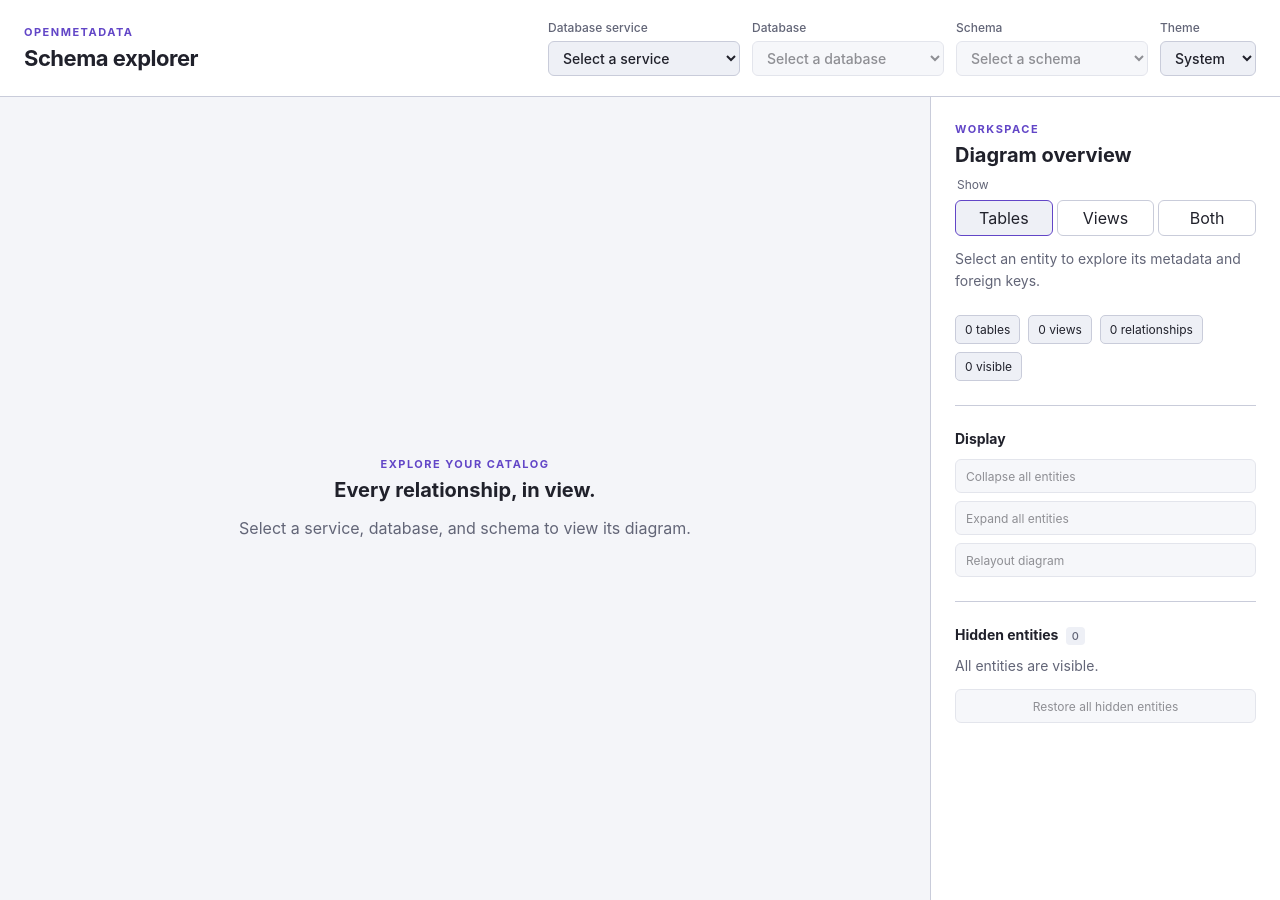
it: App graph loading › aborts a previous graph request and ignores its late response
Select "MSSQL Desktop" in the dropdown labelled "Database service" at (644, 58), box [548, 41, 740, 76]
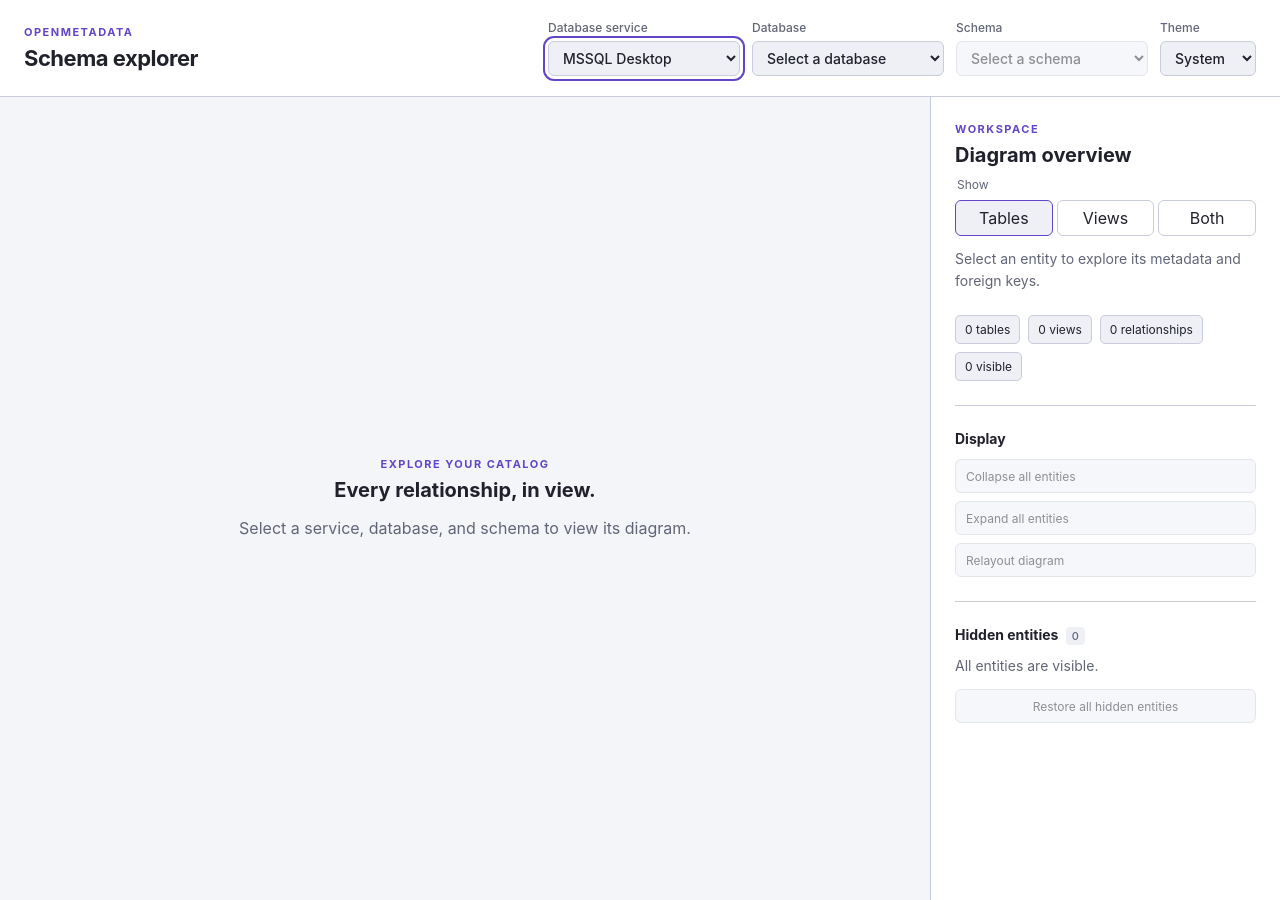
Expected: the dropdown labelled "Database" is enabled
Select "AdventureWorks2019" in the dropdown labelled "Database" at (848, 58), box [752, 41, 944, 76]
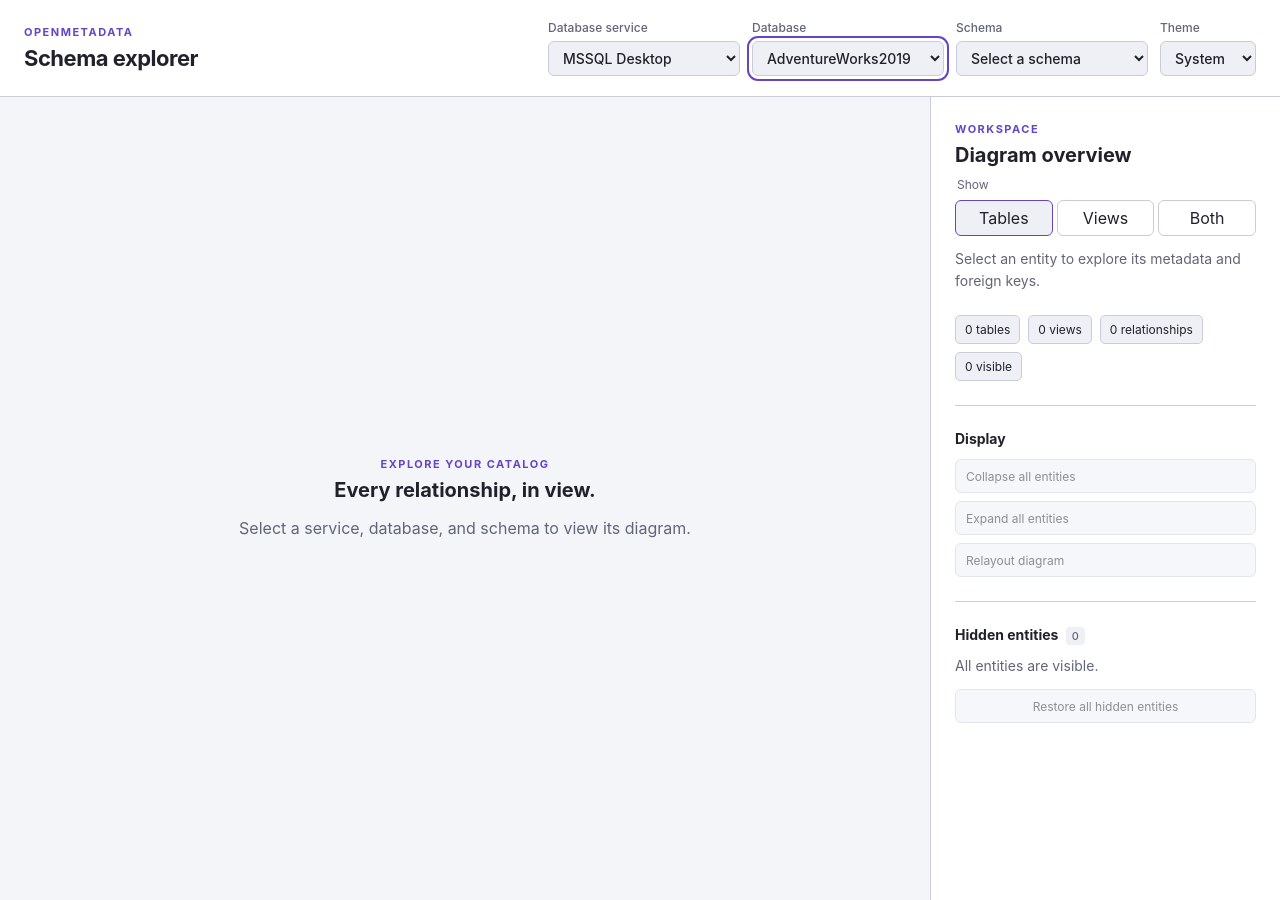
Expected: the dropdown labelled "Schema" is enabled
Select "Person" in the dropdown labelled "Schema" at (1052, 58), box [956, 41, 1148, 76]
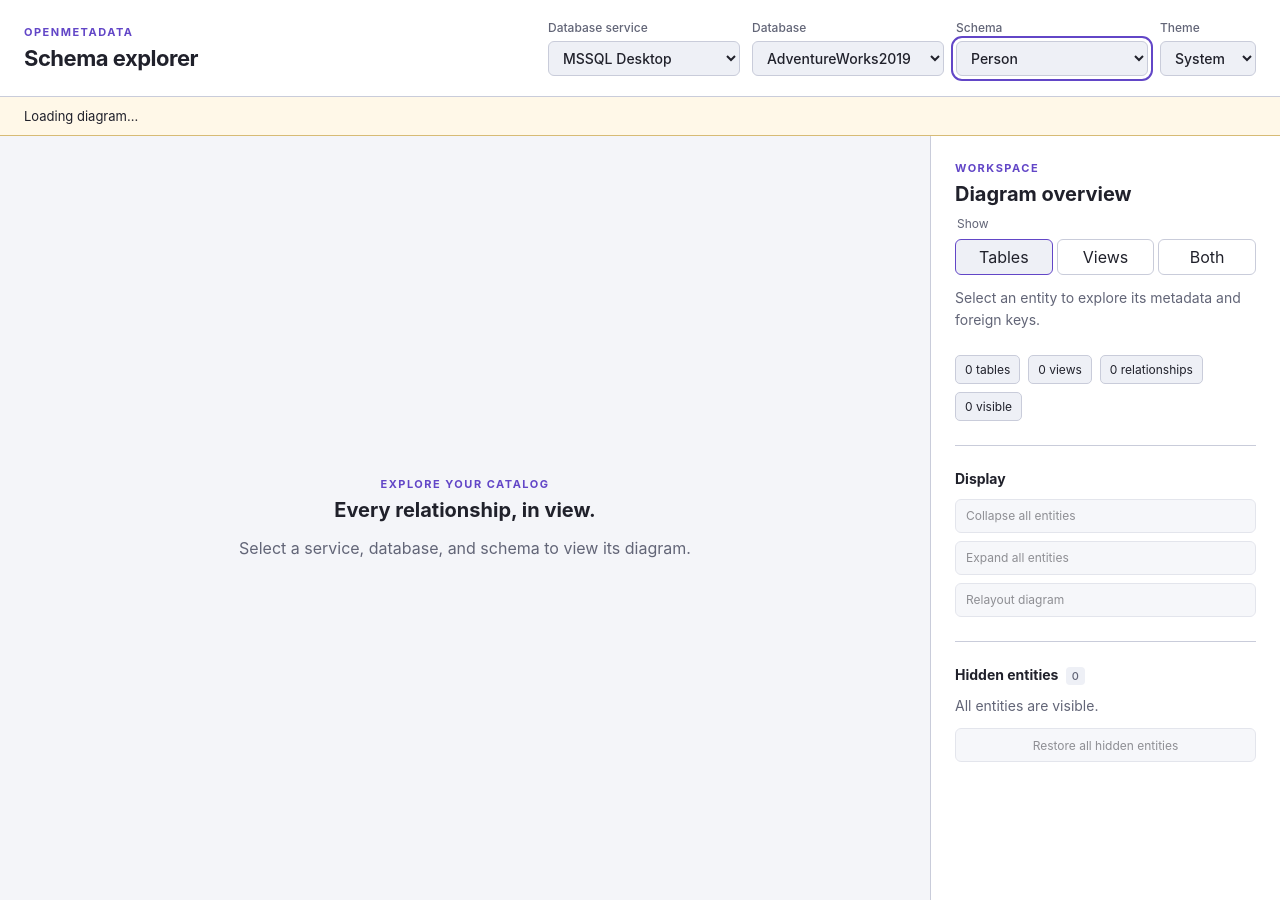
Select "Sales" in the dropdown labelled "Schema" at (1052, 58), box [956, 41, 1148, 76]
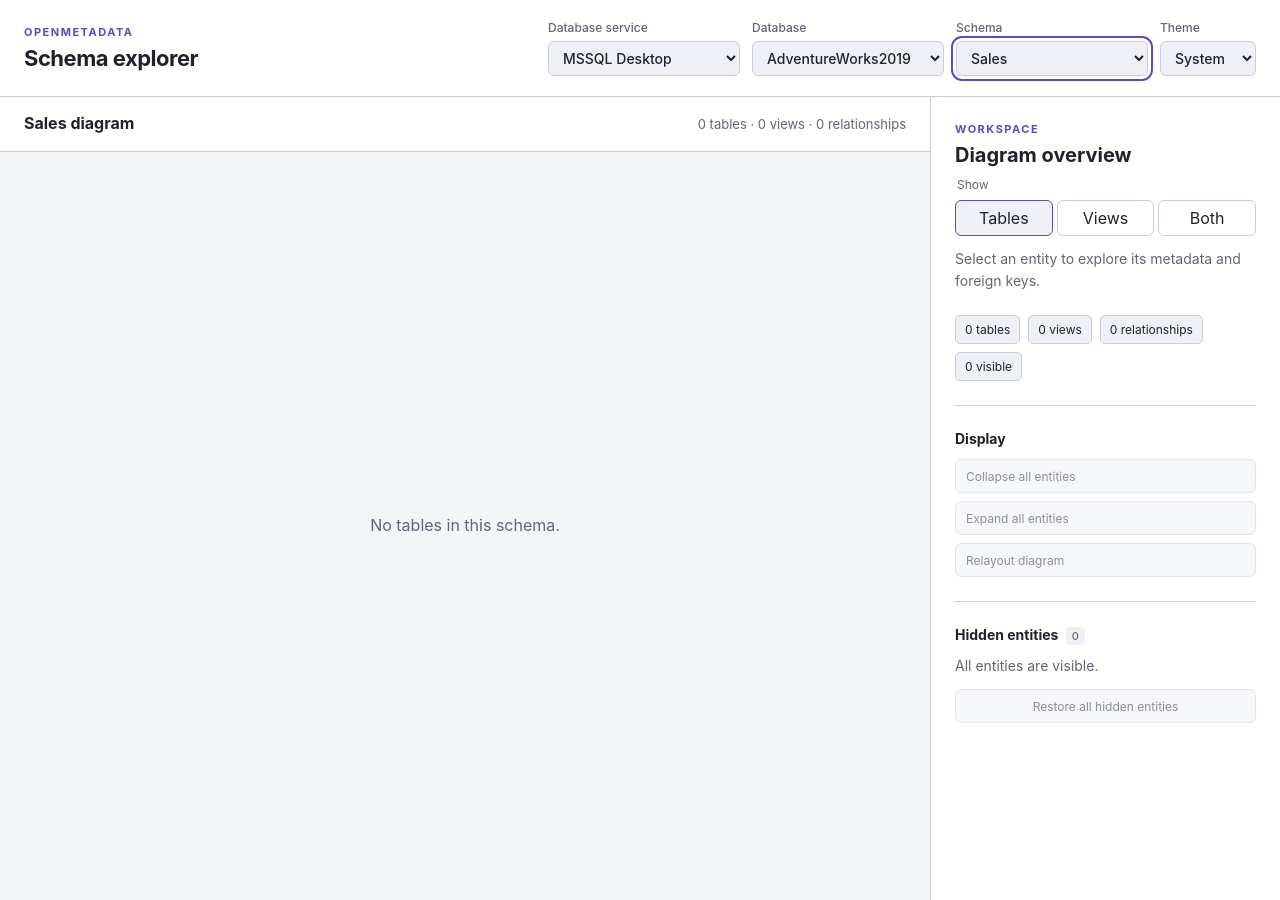
Expected: the heading "Sales diagram" is shown, [24, 113, 134, 135]
